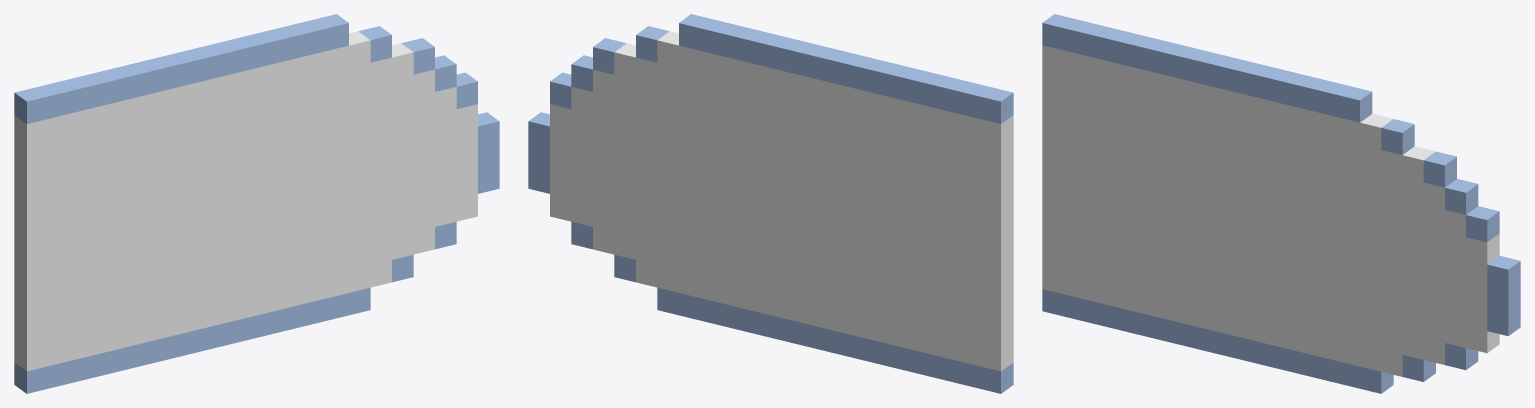
File: Fight_739_2_16_fx.obj
The picture shows the model from 3 angles, left to right: view 1: azimuth 30°, elevation 25°; view 2: azimuth 150°, elevation 25°; view 3: azimuth 330°, elevation 25°; orthographic projection.
Size of the model in its own units: 2.2 by 1.3 by 0.1.
Materials: 1 (1 with a texture image).
